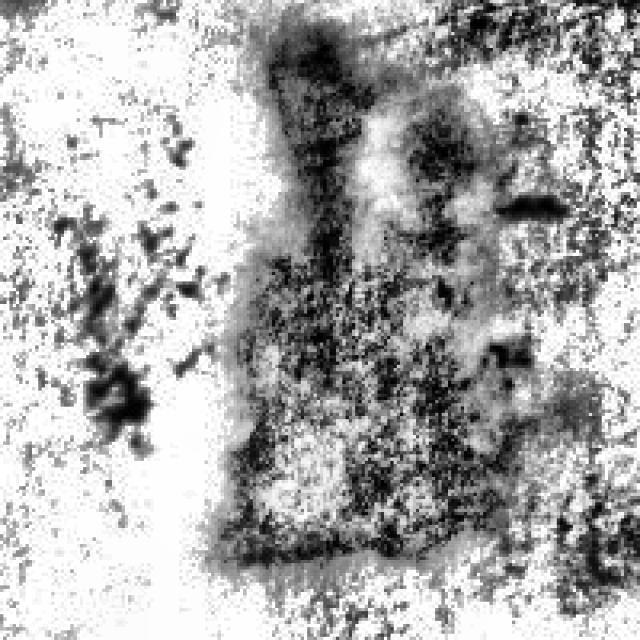Patches: (67, 233, 157, 458)
Scratches: (208, 19, 502, 573), (368, 76, 496, 324)
